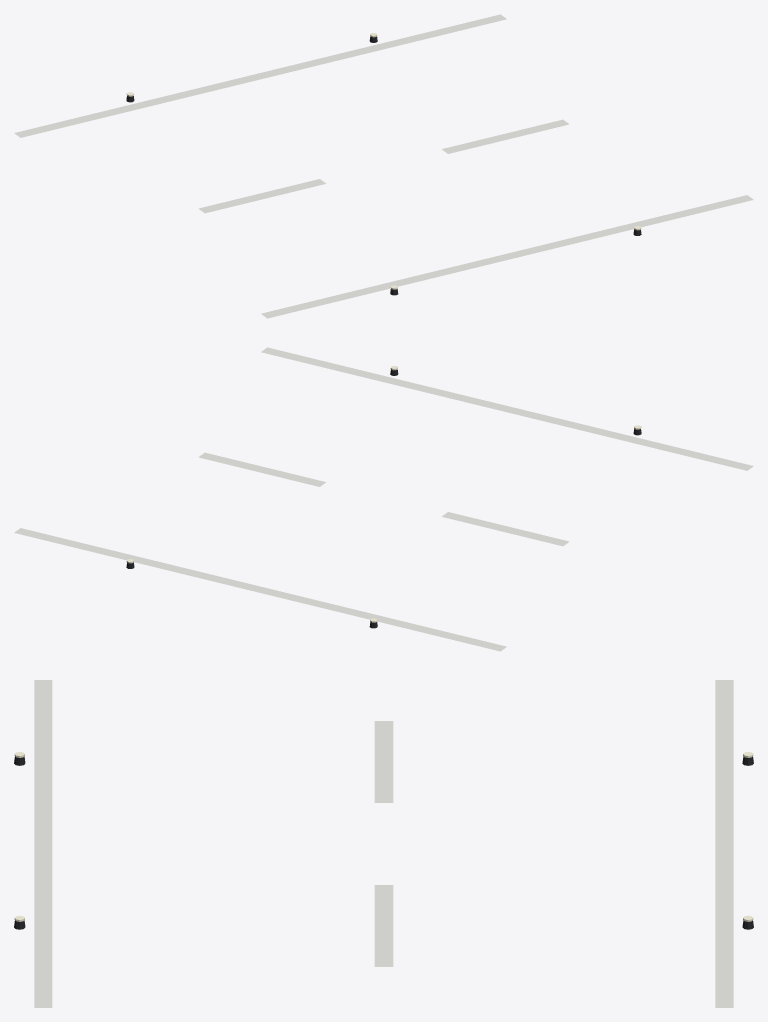
The model's file is let_draha.glb.
3 renders of one model, top to bottom at view 1: azimuth 30°, elevation 25°; view 2: azimuth 150°, elevation 25°; view 3: azimuth 270°, elevation 25°, orthographic. The views are drawn at different scales.
Parts seen in each view (by area): view 1: dum; view 2: dum; view 3: dum.
Part boxes in pixels (x1,y1,x2,y2): dum: [14, 14, 753, 318]; dum: [14, 347, 753, 651]; dum: [14, 680, 753, 1007].
Size of the model in its own units: 14.8 by 0.1996 by 14.12.
1 material, 1 textured.
